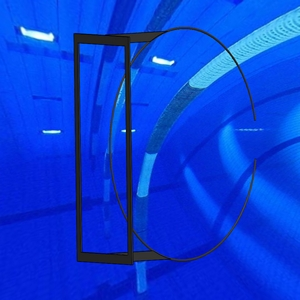circle: (72, 24, 260, 267)
